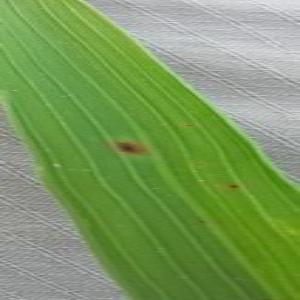Brown_Spot: (108, 132, 155, 164), (223, 179, 243, 194), (179, 119, 197, 132), (193, 215, 210, 226)
